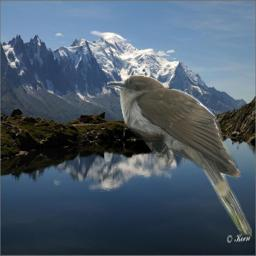Cuckoo: (107, 75, 252, 240)
